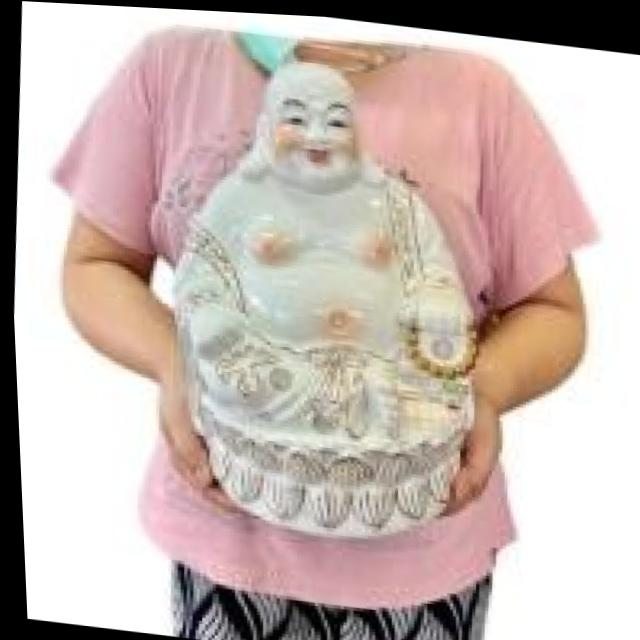Smiling Buddha: (169, 41, 449, 450)
